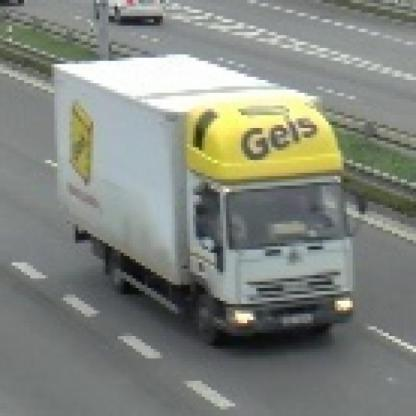truck: (58, 49, 366, 340)
